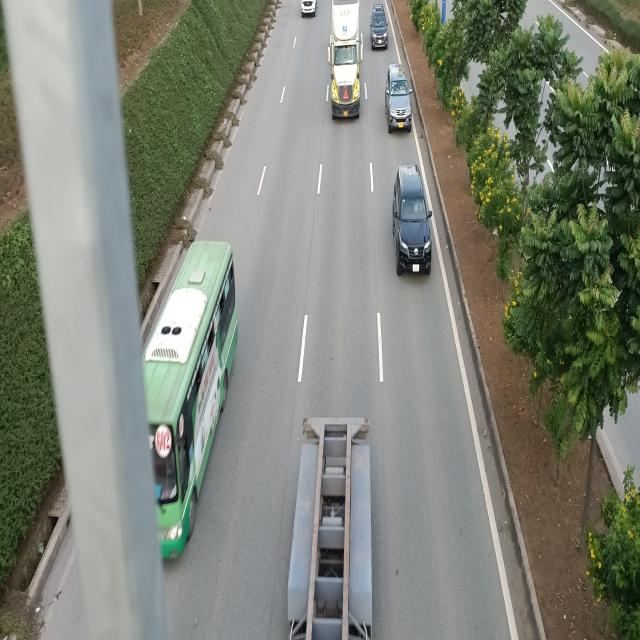car: (393, 162, 434, 274), (384, 63, 412, 131), (369, 2, 388, 49)
coach: (140, 240, 237, 560)
container: (300, 418, 372, 640), (328, 1, 364, 120)
